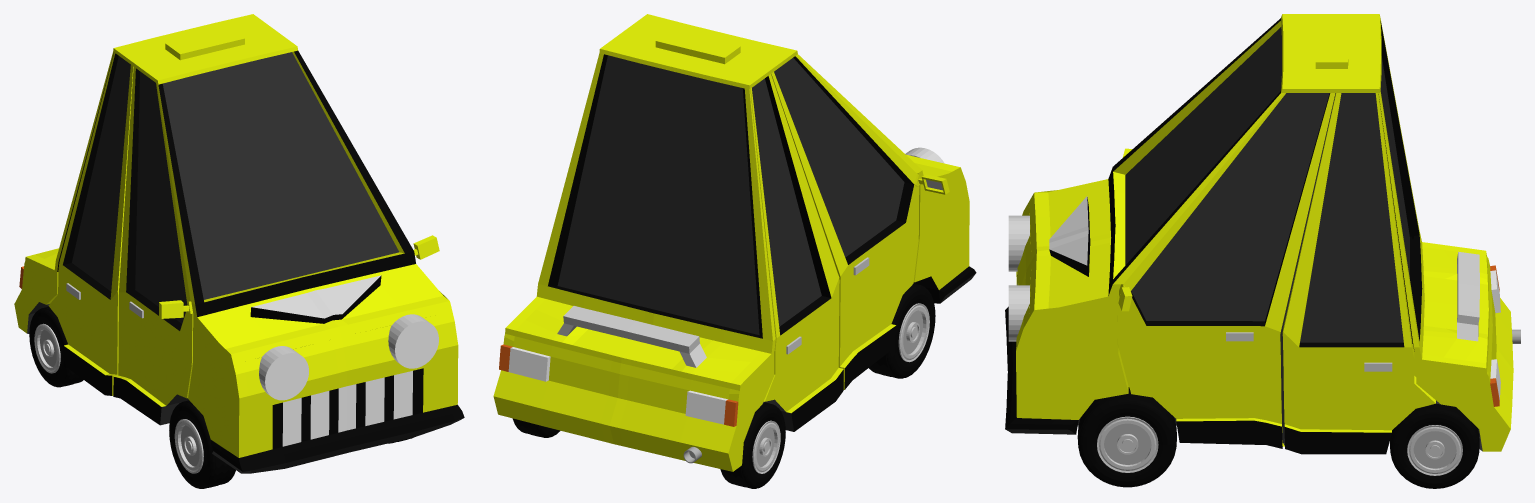
3 views of the same model, side by side, from view 1: azimuth 30°, elevation 25°; view 2: azimuth 150°, elevation 25°; view 3: azimuth 270°, elevation 25° (orthographic). The views are drawn at different scales.
Parts seen in each view (by area): view 1: BODY29A, WHEEL.001, WHEEL.004; view 2: BODY29A, WHEEL.001, WHEEL.004; view 3: BODY29A, WHEEL.003, WHEEL.002.
Boxes of the visible parts, x1,y1,x2,y2 form: BODY29A: (14, 14, 464, 473); WHEEL.001: (169, 400, 235, 488); WHEEL.004: (29, 306, 83, 387); BODY29A: (493, 14, 976, 471); WHEEL.001: (869, 283, 935, 378); WHEEL.004: (720, 402, 785, 488); BODY29A: (1005, 14, 1513, 454); WHEEL.003: (1077, 393, 1176, 487); WHEEL.002: (1390, 403, 1479, 488).
Bounding box in the file's own units: 154 × 186 × 224.
